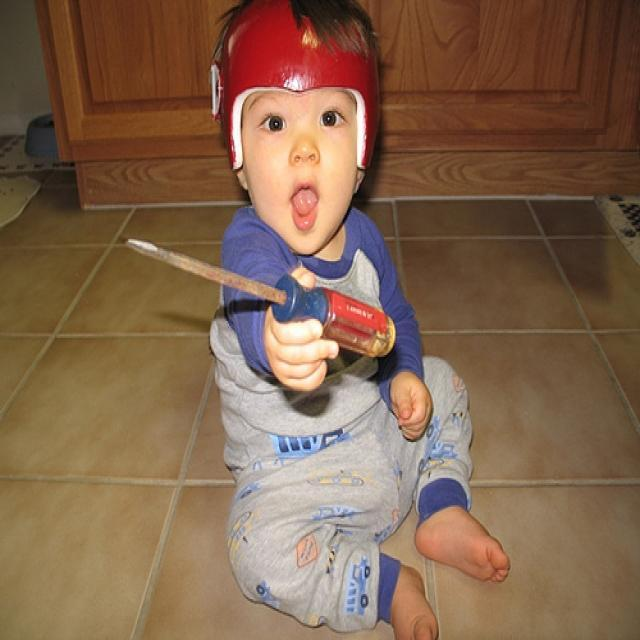screwdriver: (104, 224, 409, 370)
